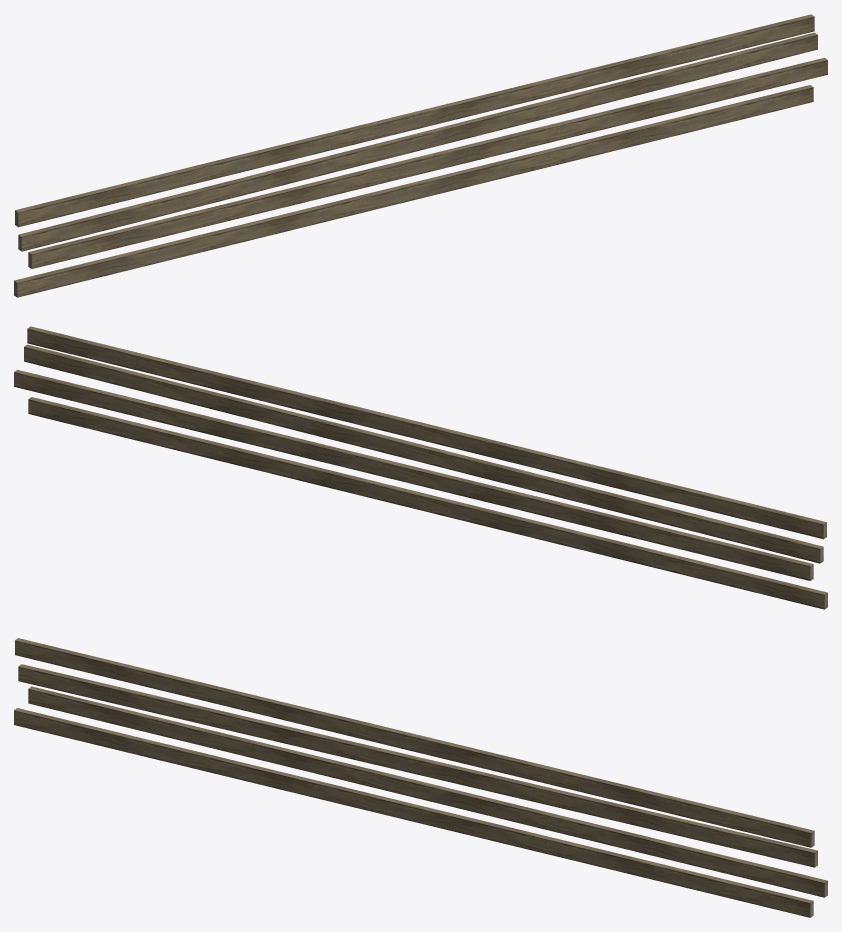
The model's file is Planks_Path_D.fbx.
3 views of the same model, one above another, from view 1: azimuth 30°, elevation 25°; view 2: azimuth 150°, elevation 25°; view 3: azimuth 330°, elevation 25° (orthographic).
Visible parts, largest first — view 1: Planks_Path_D; view 2: Planks_Path_D; view 3: Planks_Path_D.
Part boxes in pixels (left/top/right/bottom): Planks_Path_D: left=14, top=14, right=827, bottom=297; Planks_Path_D: left=14, top=326, right=827, bottom=609; Planks_Path_D: left=14, top=638, right=827, bottom=917.
Size of the model in its own units: 14.95 by 1.52 by 0.1053.
